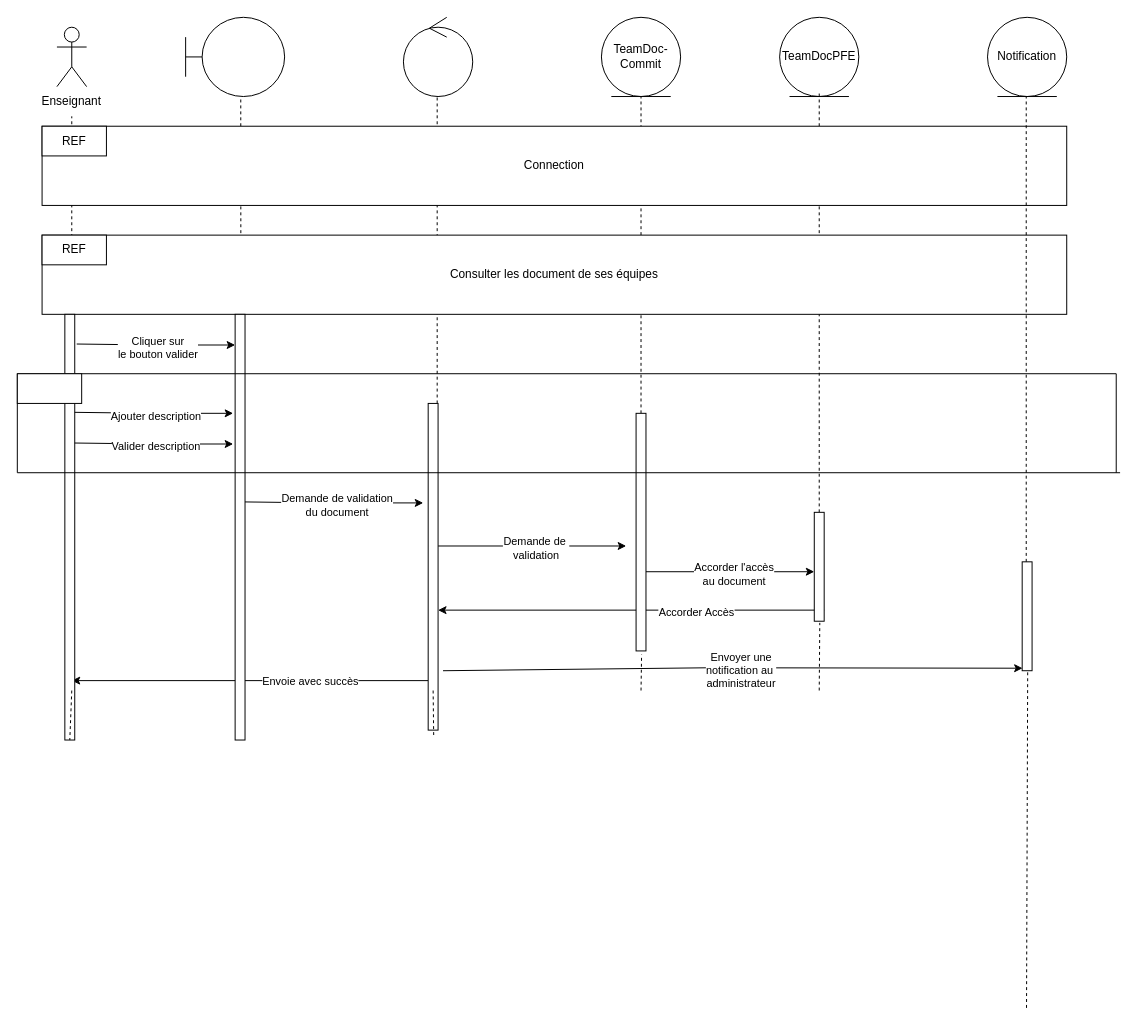
This 1139x1027 diagram has some shape labels left out. The centre of each missing label's shape, as x and y in pixels:
"Contrôleur" goes at [437,56].
"OPT" goes at [49,388].
"Team Document" goes at [235,56].
